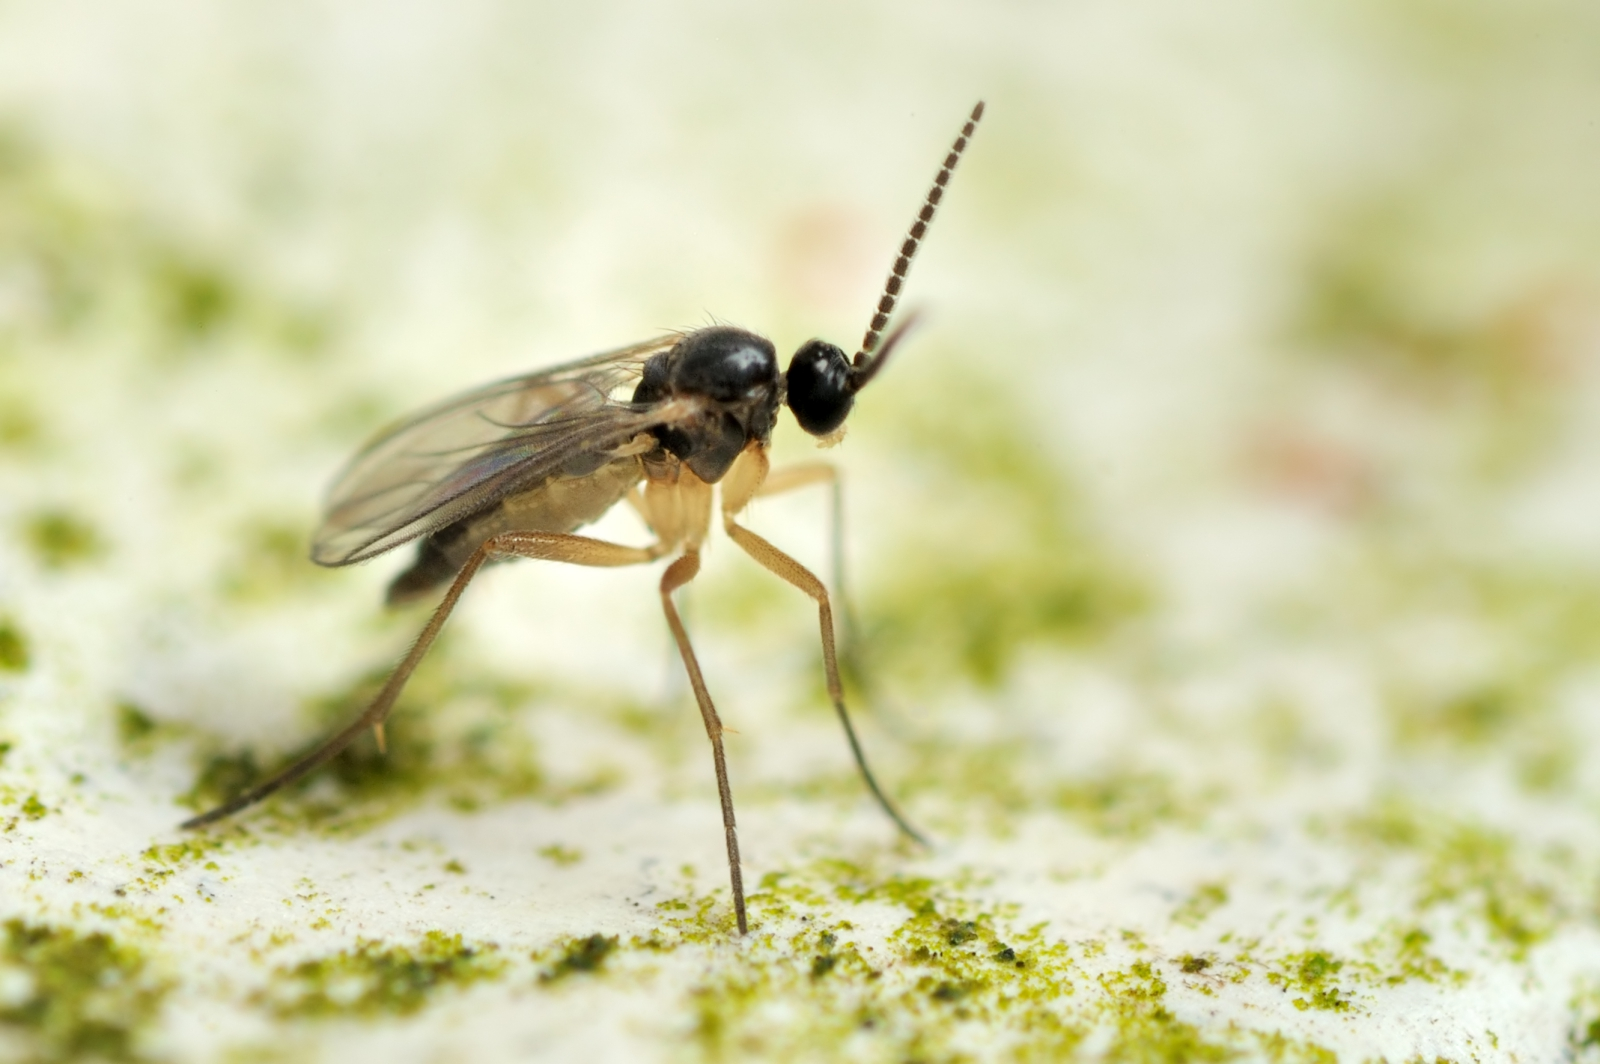Fruit fly: (242, 229, 999, 936)
